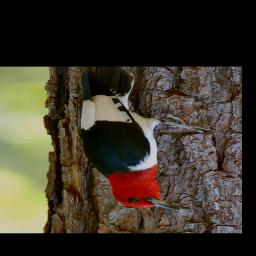Woodpecker: (78, 68, 212, 211)
